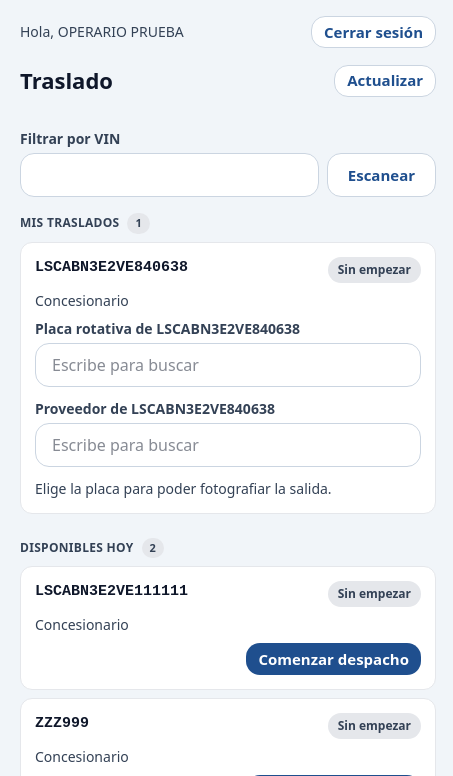
Test: AC3 · el filtro de VIN trabaja sobre lo ya cargado › muestra solo las órdenes que contienen el texto, en las dos secciones
Expected: the text "ZZZ999" is shown, [35,713,89,736]
Type "lscabn" into the search field labelled "Filtrar por VIN" at (169, 175), box [20,153,319,197]
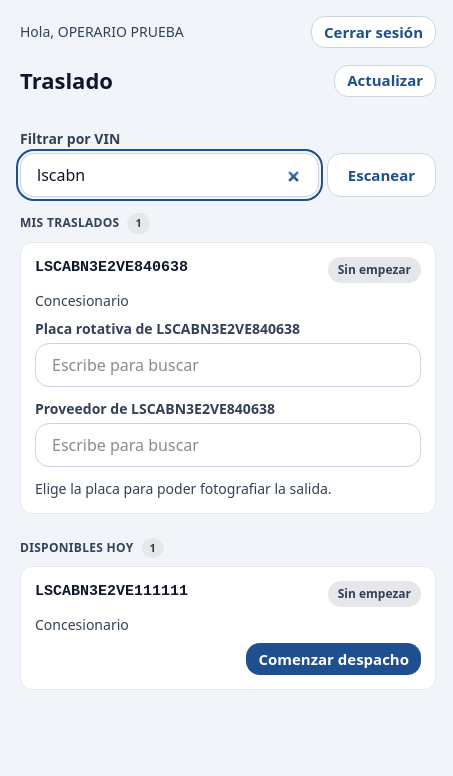
Expected: the text "LSCABN3E2VE840638" is shown, [35,256,188,279]
Result: the text "ZZZ999" is gone
